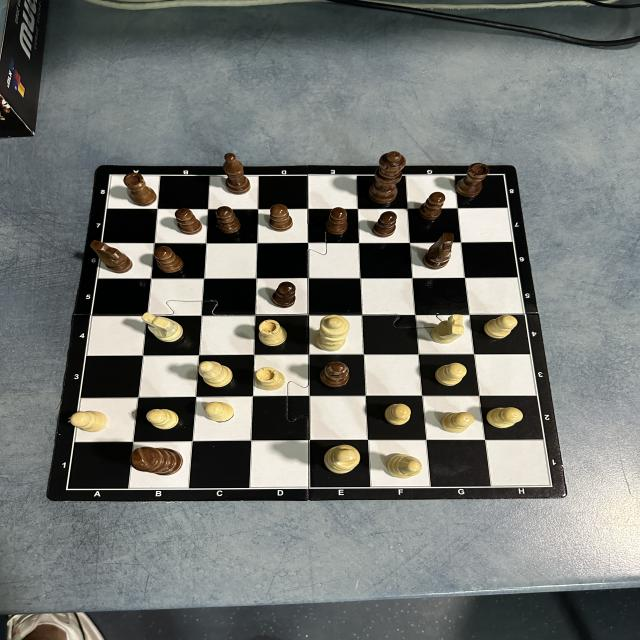Black-Bishop: (222, 152, 252, 195), (319, 362, 350, 388)
Black-King: (130, 446, 183, 476)
Black-Knight: (90, 240, 132, 274), (422, 232, 456, 270)
Black-Pawn: (153, 246, 184, 273), (418, 192, 446, 220), (214, 206, 242, 234), (174, 208, 203, 235), (371, 211, 397, 238), (270, 282, 296, 308), (269, 204, 293, 232), (326, 207, 348, 235)
Black-Queen: (367, 151, 407, 204)
Black-Rook: (454, 162, 490, 198), (122, 173, 157, 207)
White-King: (323, 444, 361, 474)
White-Knight: (141, 312, 184, 342), (431, 314, 465, 344)
White-Pawn: (387, 454, 422, 479), (70, 410, 109, 432), (483, 315, 518, 339), (486, 406, 524, 428), (434, 362, 468, 386), (440, 412, 475, 434), (146, 408, 179, 430), (204, 401, 235, 423), (384, 403, 412, 426)
White-Queen: (315, 315, 351, 352), (198, 361, 233, 388)
White-Rook: (258, 319, 288, 346), (254, 366, 286, 391)
